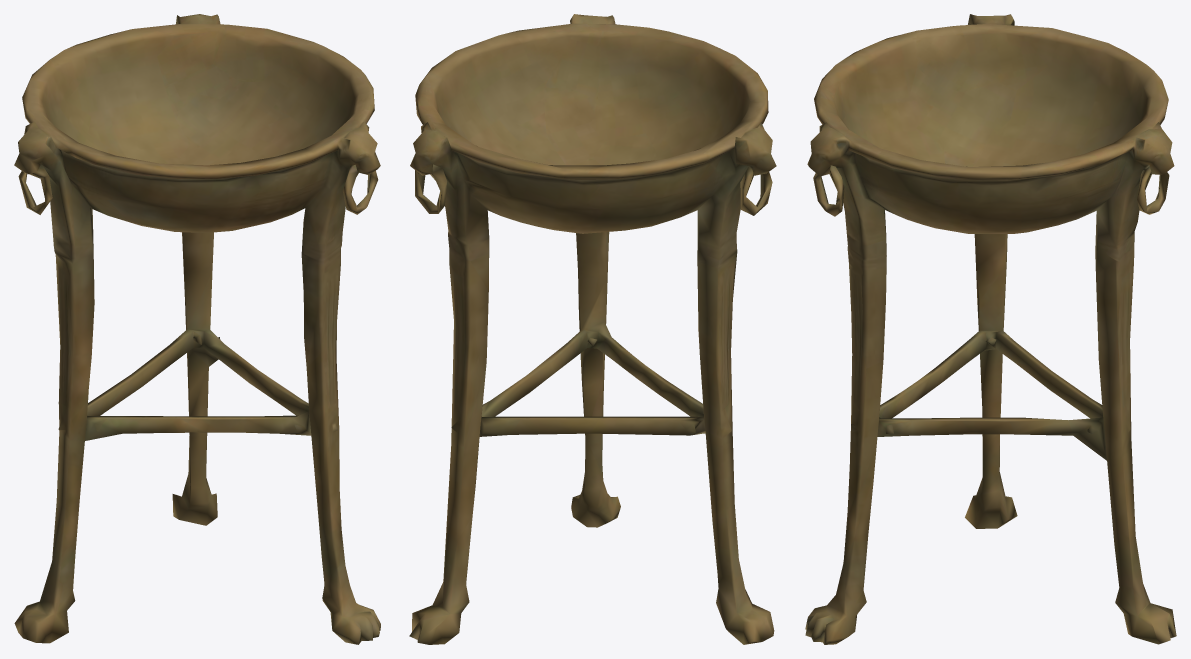
Rendered from fire_tripod.glb.
3 views of the same model, side by side, from view 1: azimuth 30°, elevation 25°; view 2: azimuth 150°, elevation 25°; view 3: azimuth 270°, elevation 25° (orthographic).
Parts seen in each view (by area): view 1: tripo_node_c82cbef8-1b61-479a-af9d-a8683d2cc2ef; view 2: tripo_node_c82cbef8-1b61-479a-af9d-a8683d2cc2ef; view 3: tripo_node_c82cbef8-1b61-479a-af9d-a8683d2cc2ef.
Boxes of the visible parts, x1,y1,x2,y2 form: tripo_node_c82cbef8-1b61-479a-af9d-a8683d2cc2ef: (14, 14, 380, 644); tripo_node_c82cbef8-1b61-479a-af9d-a8683d2cc2ef: (409, 14, 776, 644); tripo_node_c82cbef8-1b61-479a-af9d-a8683d2cc2ef: (805, 14, 1176, 644).
Size of the model in its own units: 0.6854 by 0.981 by 0.652.
1 material, 1 textured.
